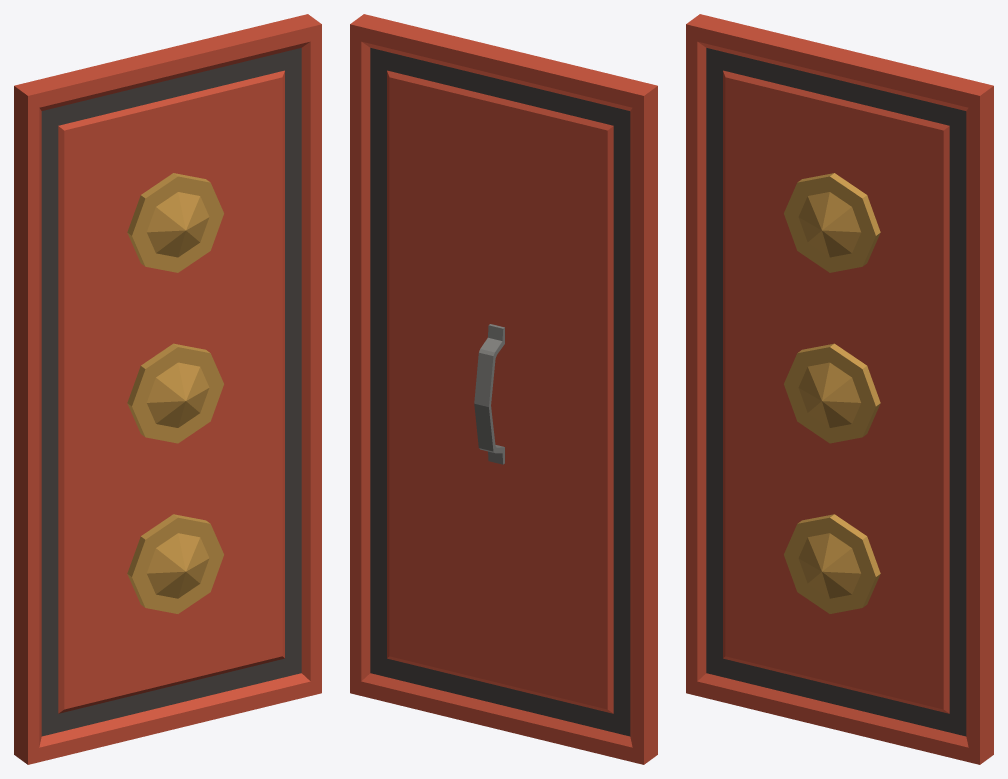
File: SM_pwe_china_shield_03.fbx
3 renders of one model, left to right at view 1: azimuth 30°, elevation 25°; view 2: azimuth 150°, elevation 25°; view 3: azimuth 330°, elevation 25°, orthographic.
Visible parts, largest first — view 1: SM_pwe_china_shield_03; view 2: SM_pwe_china_shield_03; view 3: SM_pwe_china_shield_03.
Part boxes in pixels (x1,y1,x2,y2): SM_pwe_china_shield_03: [14, 14, 321, 764]; SM_pwe_china_shield_03: [350, 14, 657, 764]; SM_pwe_china_shield_03: [686, 14, 993, 764].
Size of the model in its own units: 54.09 by 118 by 12.59.
